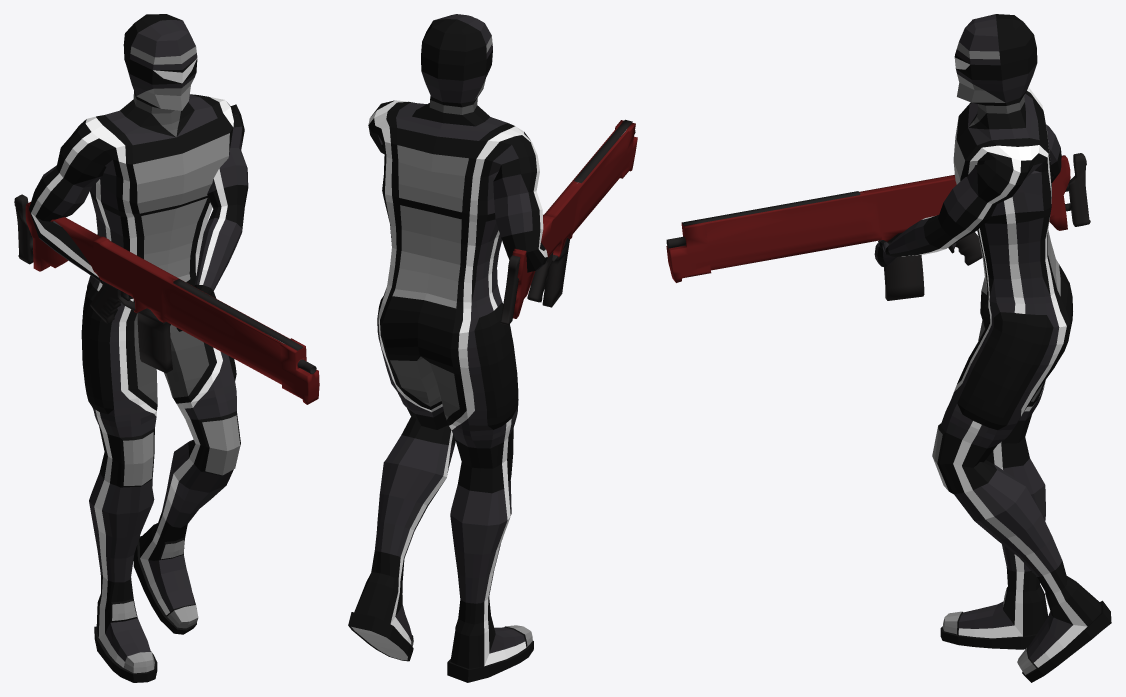
Rendered from ASR5.obj.
3 renders of one model, left to right at view 1: azimuth 30°, elevation 25°; view 2: azimuth 150°, elevation 25°; view 3: azimuth 270°, elevation 25°, orthographic.
Parts seen in each view (by area): view 1: metarig_object_metarig_mesh, metarig_object.001_metarig_mesh.001; view 2: metarig_object_metarig_mesh, metarig_object.001_metarig_mesh.001; view 3: metarig_object_metarig_mesh, metarig_object.001_metarig_mesh.001.
Part boxes in pixels (x1=…): metarig_object_metarig_mesh: x1=29, y1=14, x2=248, y2=682; metarig_object.001_metarig_mesh.001: x1=14, y1=194, x2=319, y2=404; metarig_object_metarig_mesh: x1=348, y1=14, x2=547, y2=682; metarig_object.001_metarig_mesh.001: x1=500, y1=119, x2=637, y2=325; metarig_object_metarig_mesh: x1=874, y1=14, x2=1111, y2=682; metarig_object.001_metarig_mesh.001: x1=666, y1=153, x2=1090, y2=300.
Bounding box in the file's own units: 0.5713 × 1.87 × 1.17.
Materials: 2 (2 with a texture image).
